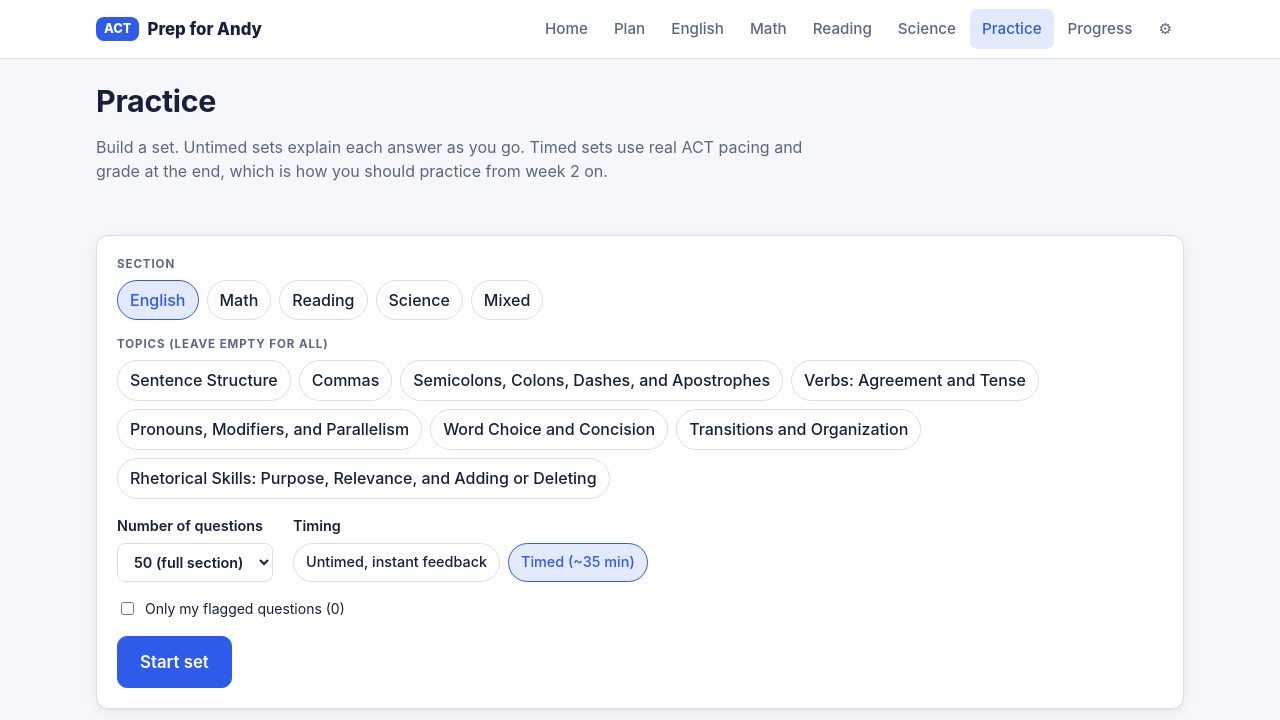
Scenario: quiz flow › english passage questions highlight the current underlined portion
This screenshot has width=1280, height=720.
Click the button "Start set" at coordinates (174, 662), box [117,636,232,688]
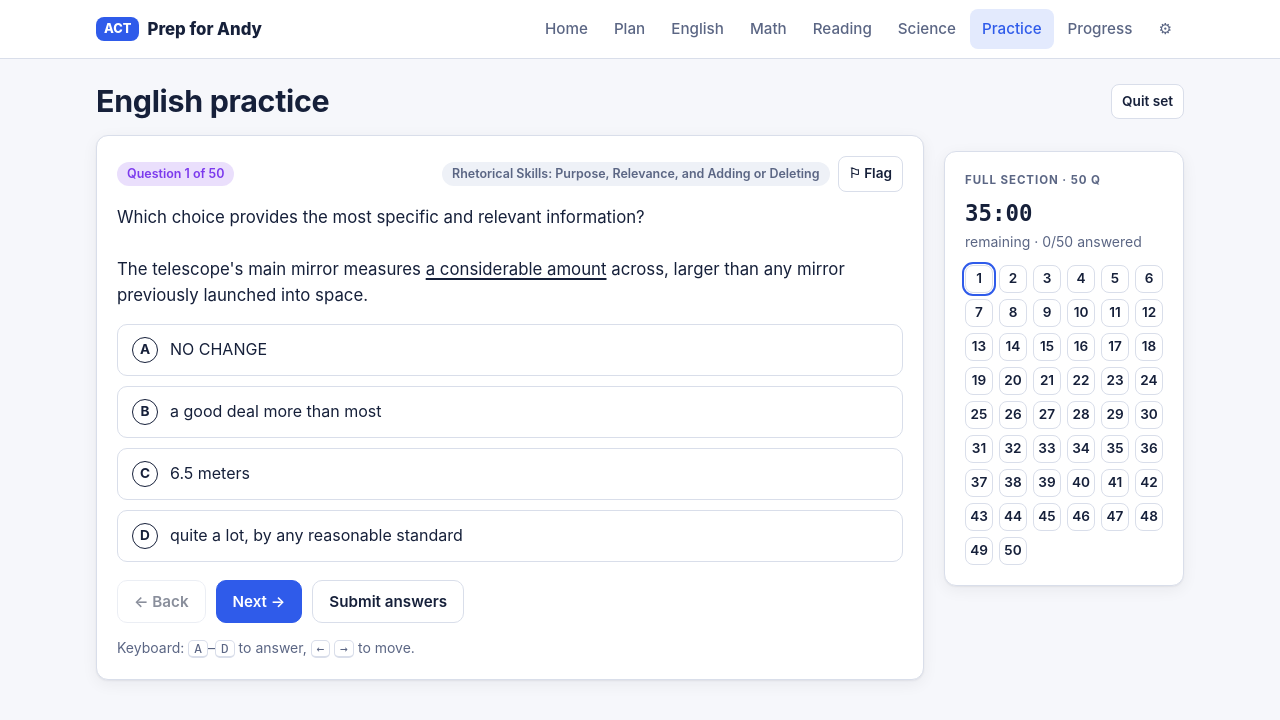
jump to the last question, which is passage-based
Click the button named "Go to question 50" at coordinates (1013, 551), box [999,537,1027,565]
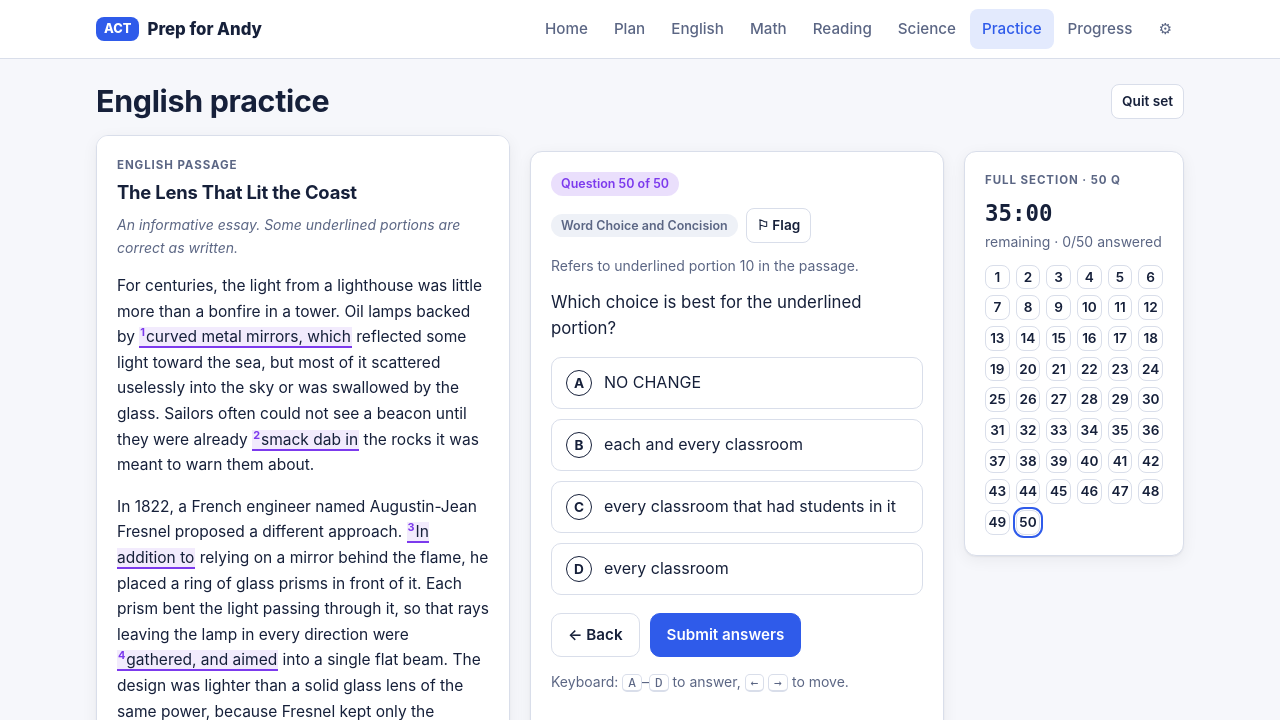
Result: the text "Refers to underlined portion 10 in the passage." is shown at [551,257,859,274]
